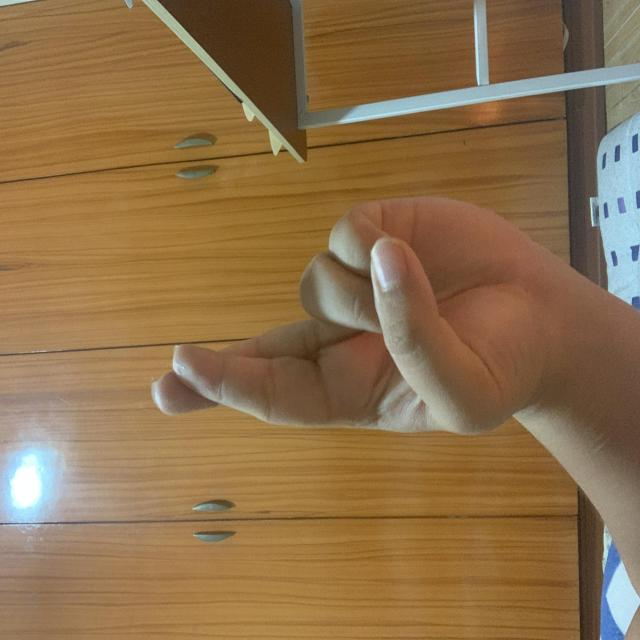R: (199, 148, 437, 543)
